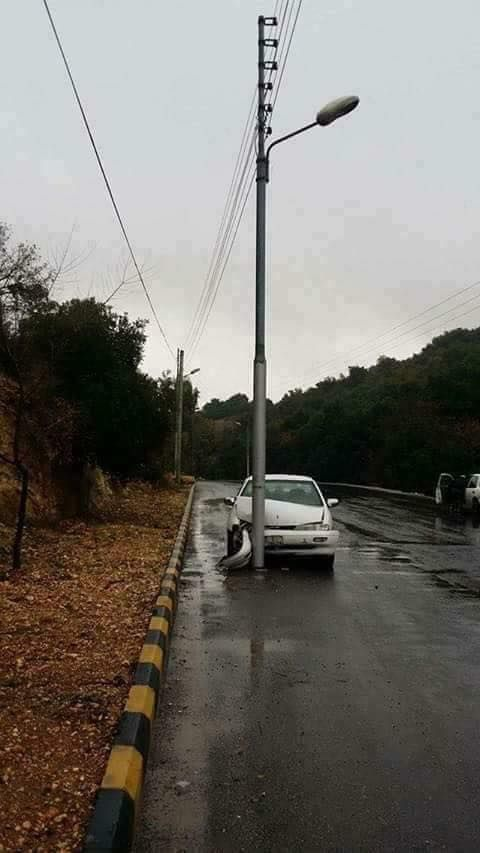car: (214, 465, 350, 577)
pole: (213, 11, 390, 572)
